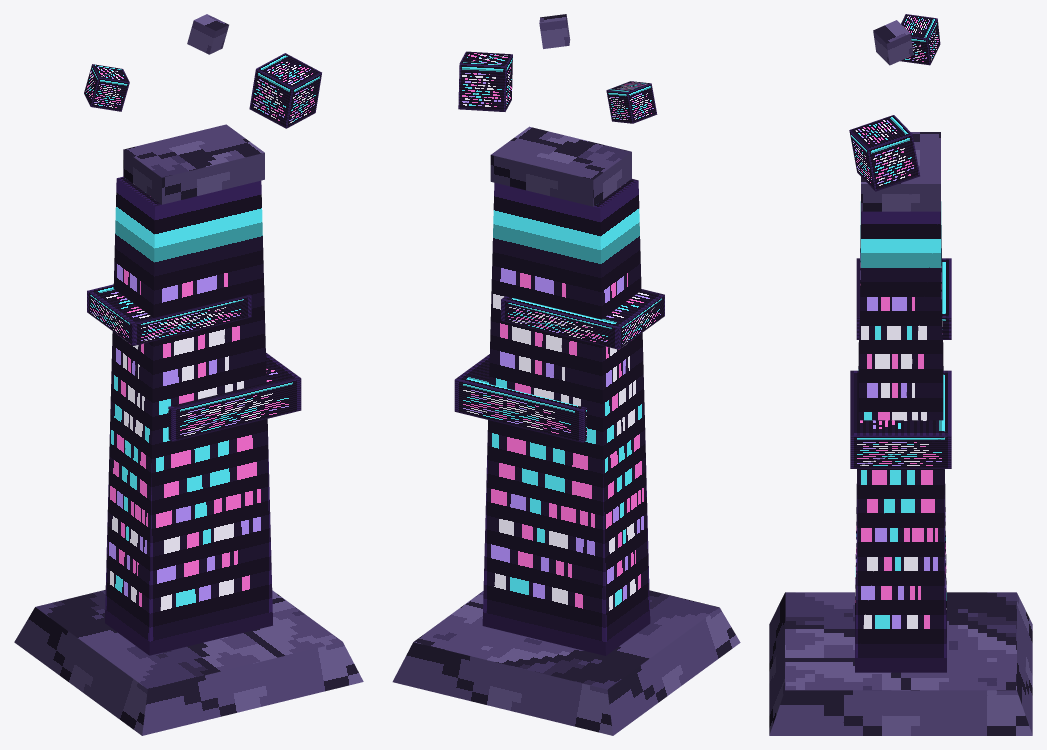
The model's file is glitch_monolith.glb.
The picture shows the model from 3 angles, left to right: view 1: azimuth 30°, elevation 25°; view 2: azimuth 150°, elevation 25°; view 3: azimuth 270°, elevation 25°; orthographic projection. The views are drawn at different scales.
Parts seen in each view (by area): view 1: glitch_monolith; view 2: glitch_monolith; view 3: glitch_monolith.
Part boxes in pixels (x1=…): glitch_monolith: x1=14, y1=14, x2=363, y2=735; glitch_monolith: x1=392, y1=14, x2=740, y2=735; glitch_monolith: x1=769, y1=14, x2=1032, y2=735.
Bounding box in the file's own units: 0.8905 × 2.4 × 0.8662.
Materials: 2 (2 with a texture image).
